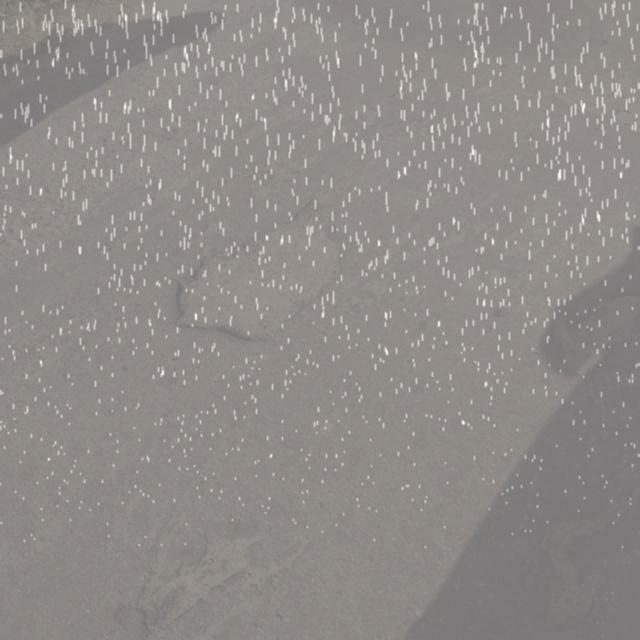Pothole: (166, 182, 352, 354)
